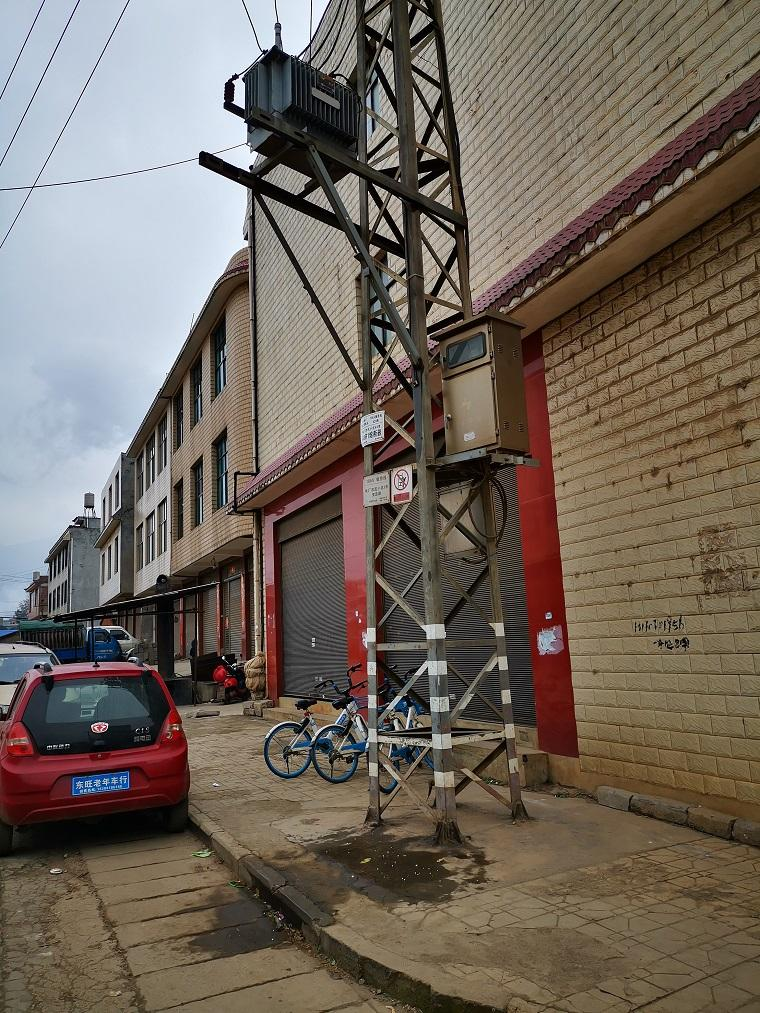oil: (183, 809, 493, 964)
